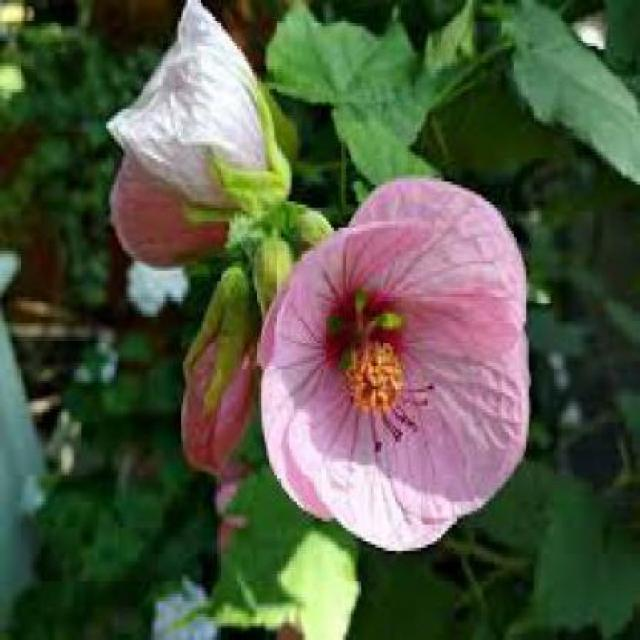Flower: (254, 175, 529, 552), (106, 3, 289, 222), (343, 343, 432, 452)
